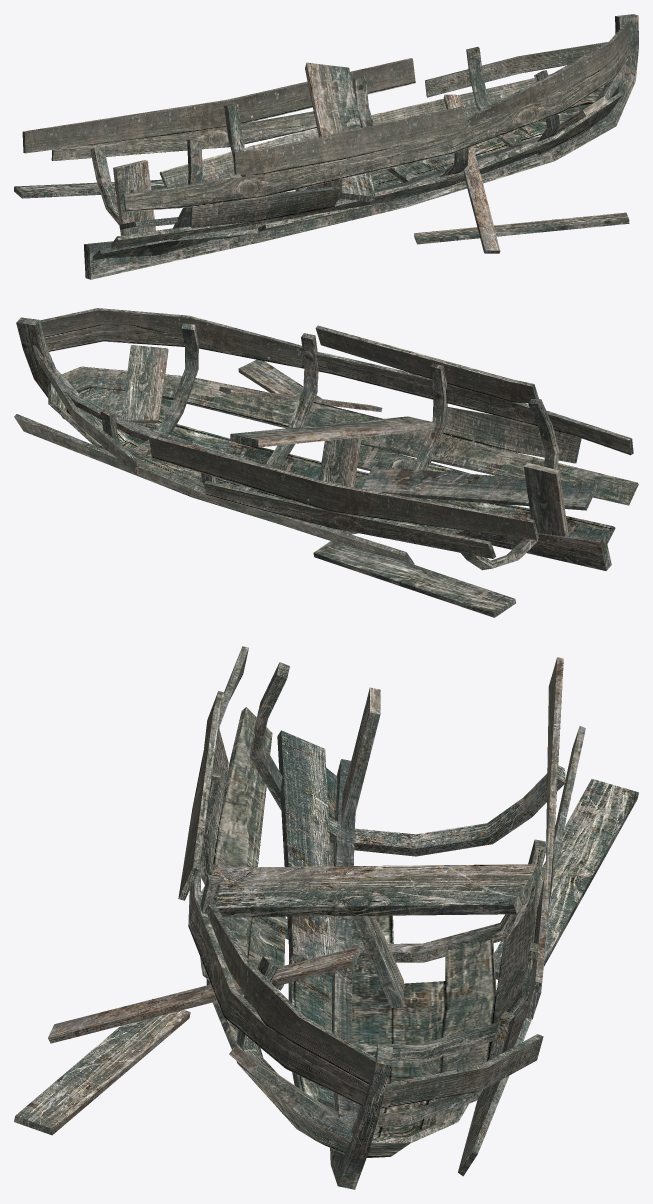
File: Boat3_LOD1.fbx
3 renders of one model, top to bottom at view 1: azimuth 30°, elevation 25°; view 2: azimuth 150°, elevation 25°; view 3: azimuth 270°, elevation 25°, orthographic. The views are drawn at different scales.
Parts seen in each view (by area): view 1: polySurface1097; view 2: polySurface1097; view 3: polySurface1097.
Part boxes in pixels (x1,y1,x2,y2): polySurface1097: [14, 14, 638, 279]; polySurface1097: [14, 308, 638, 617]; polySurface1097: [14, 646, 638, 1189].
Bounding box in the file's own units: 5.23 × 1.21 × 3.12.
